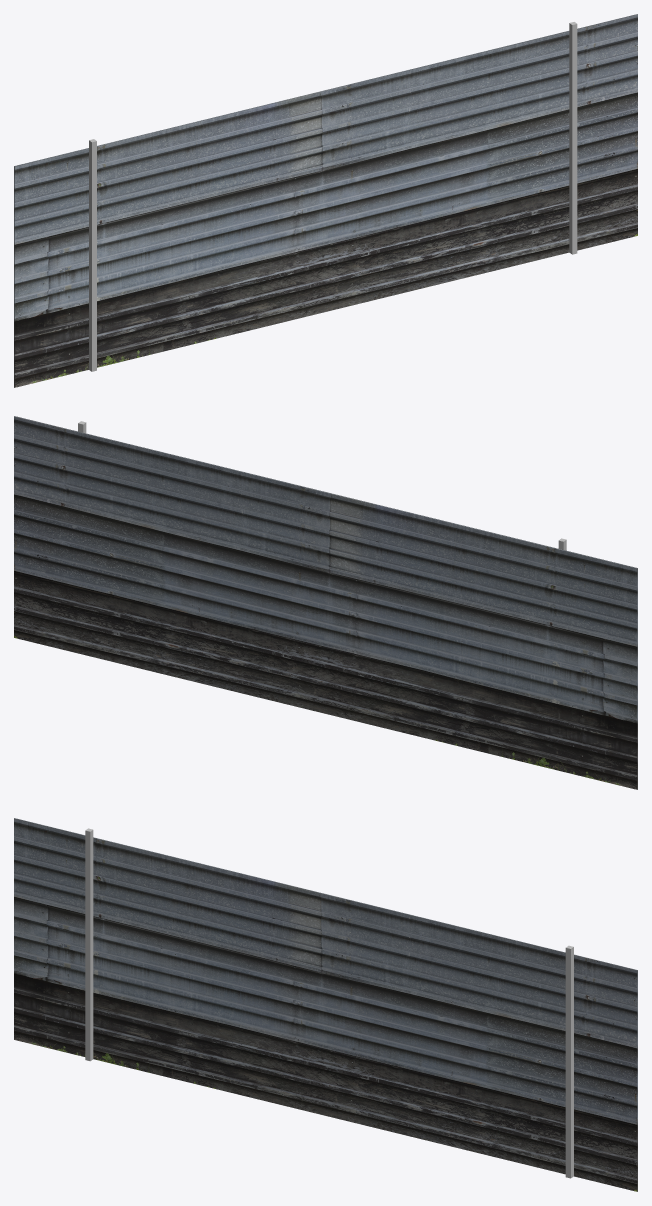
Rendered from MetallFence06.FBX.
The picture shows the model from 3 angles, top to bottom: view 1: azimuth 30°, elevation 25°; view 2: azimuth 150°, elevation 25°; view 3: azimuth 330°, elevation 25°; orthographic projection.
Visible parts, largest first — view 1: MetallFence06, MetalFenceMetal02b; view 2: MetallFence06; view 3: MetallFence06, MetalFenceMetal02b.
Part boxes in pixels (bbox=[...]): MetallFence06: bbox=[14, 14, 637, 387]; MetalFenceMetal02b: bbox=[89, 22, 577, 371]; MetallFence06: bbox=[14, 416, 637, 789]; MetallFence06: bbox=[14, 818, 637, 1191]; MetalFenceMetal02b: bbox=[85, 828, 573, 1178].
Bounding box in the file's own units: 652 × 229 × 6.49.
